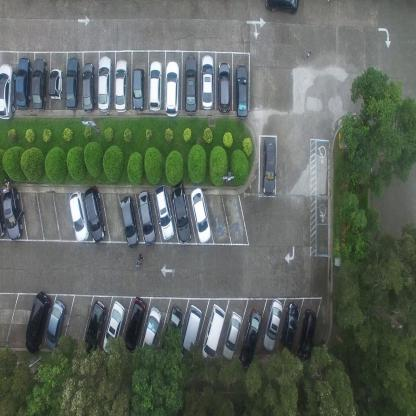car: (25, 291, 52, 354), (238, 308, 263, 370), (179, 304, 202, 366), (201, 303, 225, 361), (123, 295, 147, 353), (102, 300, 126, 356), (170, 179, 191, 242), (0, 186, 24, 240), (84, 185, 106, 243), (84, 299, 106, 354), (140, 305, 162, 359), (262, 296, 283, 352), (190, 186, 210, 244), (119, 194, 140, 249), (68, 189, 89, 242), (154, 184, 174, 239), (161, 305, 183, 355), (221, 309, 242, 361), (45, 298, 66, 350), (137, 189, 156, 245), (279, 301, 299, 351), (298, 308, 317, 360), (0, 62, 15, 120), (183, 53, 197, 115), (15, 56, 31, 109), (262, 136, 276, 196), (200, 52, 214, 110), (165, 60, 179, 118), (98, 54, 112, 112), (216, 59, 231, 113), (32, 56, 47, 110), (235, 62, 249, 119), (65, 57, 80, 110), (114, 58, 128, 113), (148, 61, 163, 112), (82, 61, 96, 112), (132, 67, 146, 111), (264, 0, 298, 16), (49, 67, 63, 101)
